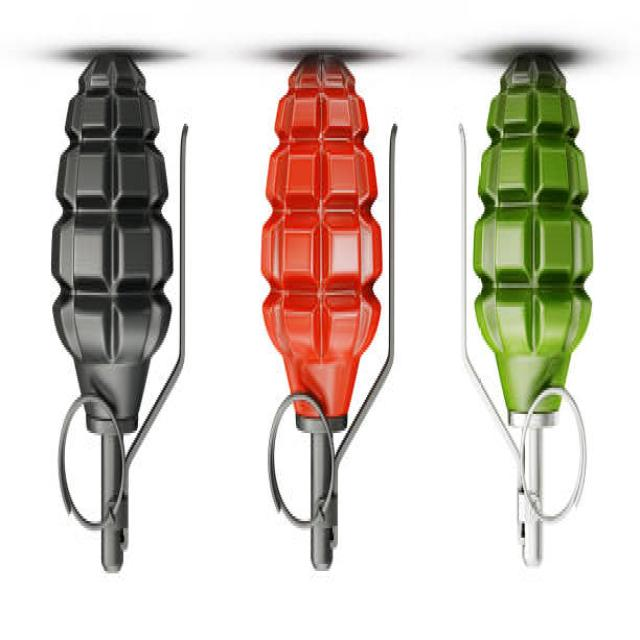grenade: (47, 41, 194, 592)
